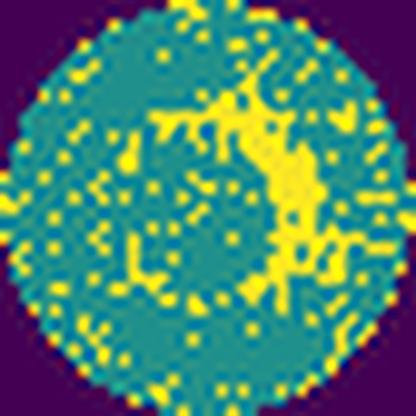Donut: (82, 76, 340, 322)
